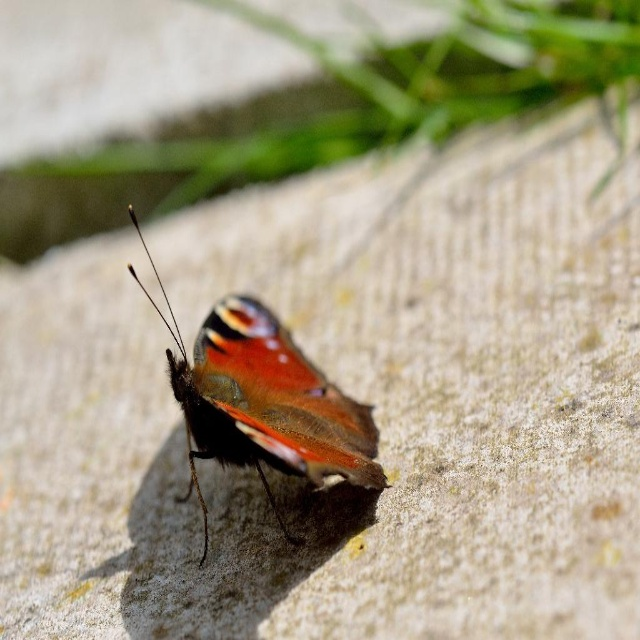Butterfly: (115, 198, 383, 560)
